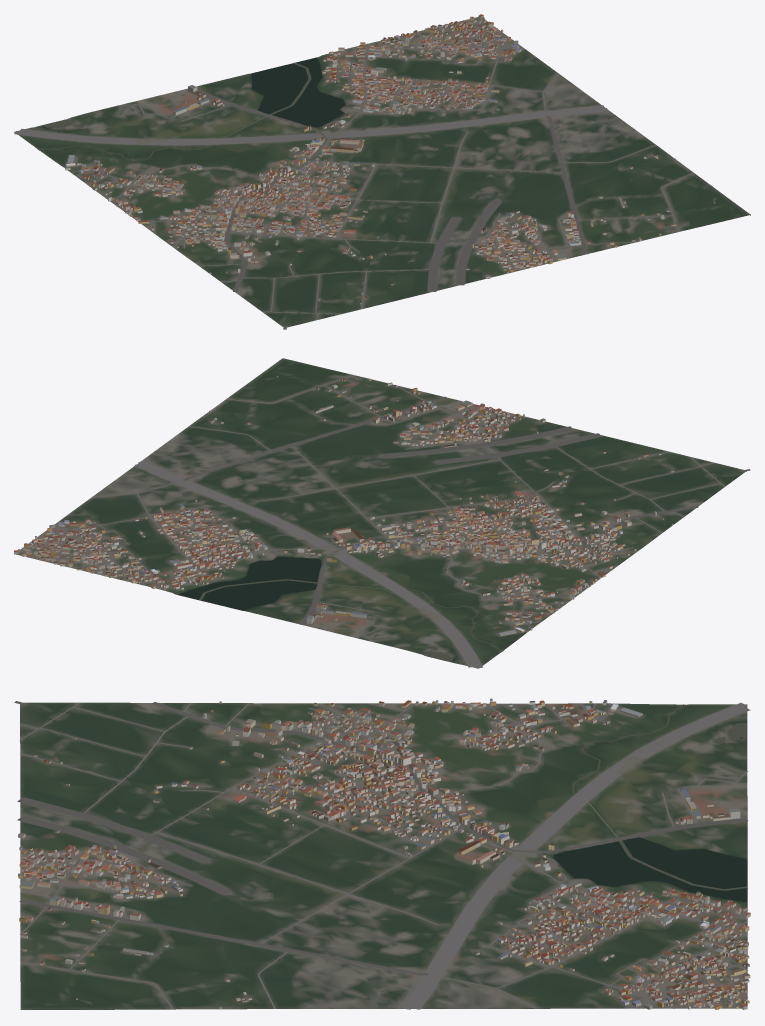
3 renders of one model, top to bottom at view 1: azimuth 30°, elevation 25°; view 2: azimuth 150°, elevation 25°; view 3: azimuth 270°, elevation 25°, orthographic. The views are drawn at different scales.
Visible parts, largest first — view 1: ground, buildings, roads, water; view 2: ground, buildings, roads, water; view 3: ground, buildings, roads, water.
Part boxes in pixels (x1,y1,x2,y2): ground: (14,17,750,327); buildings: (65,14,715,304); roads: (14,20,694,329); water: (37,57,345,160); ground: (14,358,746,668); buildings: (14,375,674,636); roads: (30,375,750,668); water: (178,556,501,662); ground: (20,702,747,1009); buildings: (18,698,750,1009); roads: (14,701,750,1009); water: (553,704,747,901).
Size of the model in its own units: 1410 by 24.14 by 1421.
